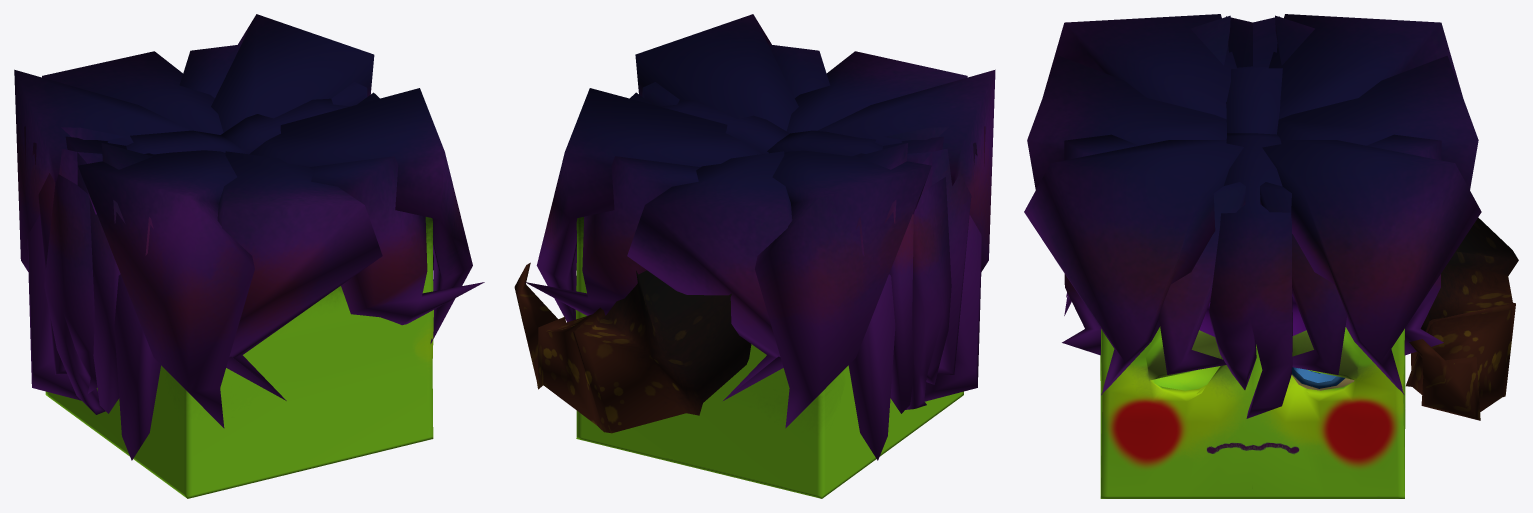
File: cube green.glb
3 renders of one model, left to right at view 1: azimuth 30°, elevation 25°; view 2: azimuth 150°, elevation 25°; view 3: azimuth 270°, elevation 25°, orthographic. The views are drawn at different scales.
Parts seen in each view (by area): view 1: Cube.002, Cube; view 2: Cube.002, Cube.001, Cube; view 3: Cube.002, Cube, Cube.001, Sphere.
Boxes of the visible parts, box(x1,y1,x2,y2) form: Cube.002: box(14, 14, 484, 460); Cube: box(45, 217, 433, 498); Cube.002: box(525, 14, 995, 460); Cube.001: box(514, 262, 751, 433); Cube: box(575, 217, 963, 498); Cube.002: box(1024, 14, 1481, 418); Cube: box(1100, 294, 1405, 498); Cube.001: box(1406, 217, 1518, 420); Sphere: box(1291, 367, 1354, 390).
Size of the model in its own units: 2.86 by 2.47 by 3.25.
Materials: 4 (4 with a texture image).
